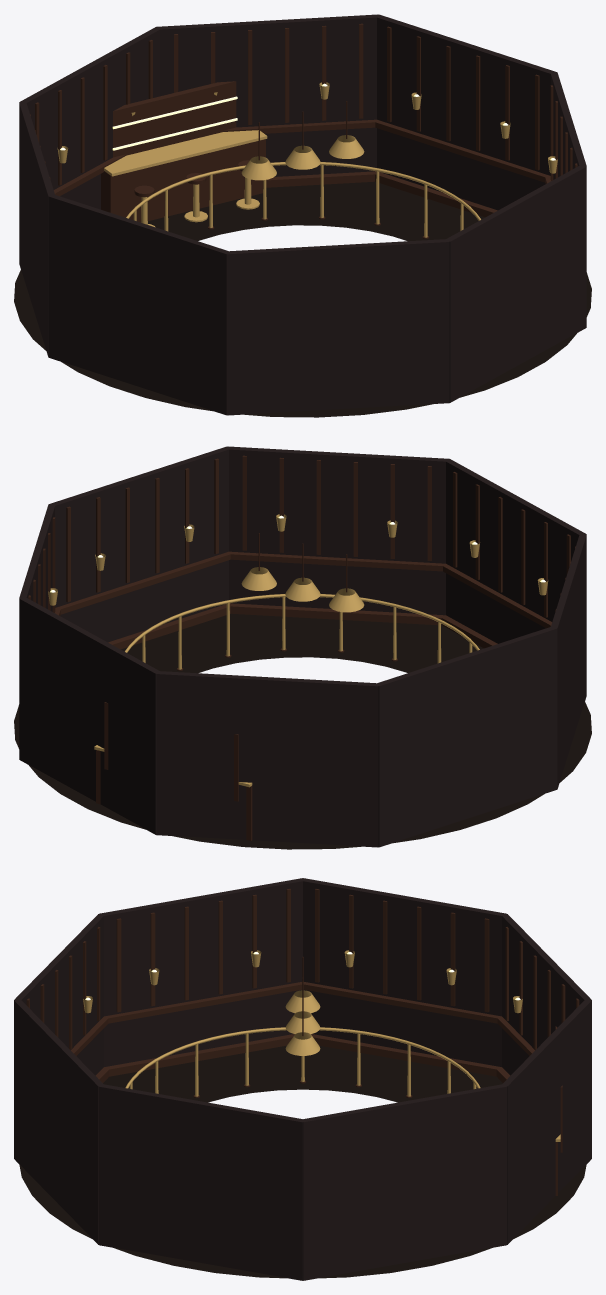
The model's file is stackchips-room-surround.glb.
The picture shows the model from 3 angles, top to bottom: view 1: azimuth 30°, elevation 25°; view 2: azimuth 150°, elevation 25°; view 3: azimuth 270°, elevation 25°; orthographic projection.
Parts seen in each view (by area): view 1: walls__room_wall, carpet_ring__room_carpet, walls__room_wood, bar__room_wood, bar__room_brass, balustrade__room_brass, pendants__room_brass, bar__room_glow, walls__room_brass; view 2: walls__room_wall, carpet_ring__room_carpet, walls__room_wood, balustrade__room_brass, pendants__room_brass, bar__room_wood, walls__room_brass; view 3: walls__room_wall, walls__room_wood, carpet_ring__room_carpet, balustrade__room_brass, pendants__room_brass, walls__room_brass.
Part boxes in pixels (x1,y1,x2,y2): walls__room_wall: (19,14,586,415); carpet_ring__room_carpet: (14,181,591,417); walls__room_wood: (30,23,577,217); bar__room_wood: (101,81,265,222); bar__room_brass: (104,130,267,227); balustrade__room_brass: (126,162,480,237); pendants__room_brass: (241,135,364,180); bar__room_glow: (112,96,237,150); walls__room_brass: (57,82,557,173); walls__room_wall: (19,446,586,847); carpet_ring__room_carpet: (14,613,591,849); walls__room_wood: (28,455,575,649); balustrade__room_brass: (125,594,479,669); pendants__room_brass: (241,567,364,612); bar__room_wood: (96,702,252,840); walls__room_brass: (48,514,548,605); walls__room_wall: (14,878,591,1280); walls__room_wood: (26,889,579,1082); carpet_ring__room_carpet: (19,1045,586,1278); balustrade__room_brass: (125,1027,480,1096); pendants__room_brass: (285,990,320,1055); walls__room_brass: (83,950,522,1013).
Bounding box in the file's own units: 11.16 × 3.85 × 11.16.
